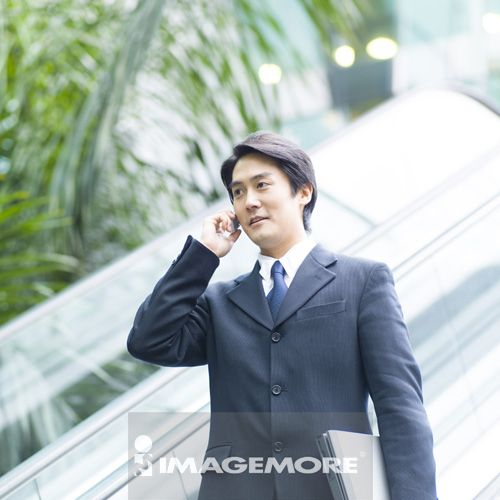talk: (198, 168, 288, 259)
